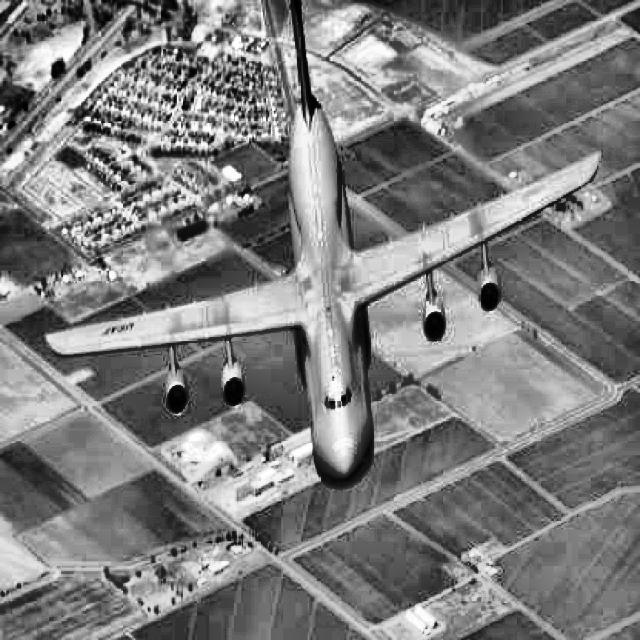C5: (45, 0, 600, 489)
